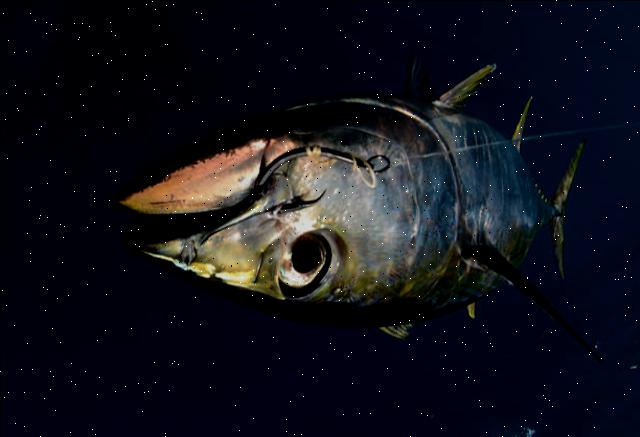Mulut: (73, 104, 275, 306)
Sirip Anal: (501, 84, 547, 160)
Sirip Dada: (444, 220, 618, 378)
Sirip Ekor: (530, 125, 604, 292)
Sirip Perut: (379, 40, 509, 118)
Sirip Punggung: (363, 294, 489, 355)
